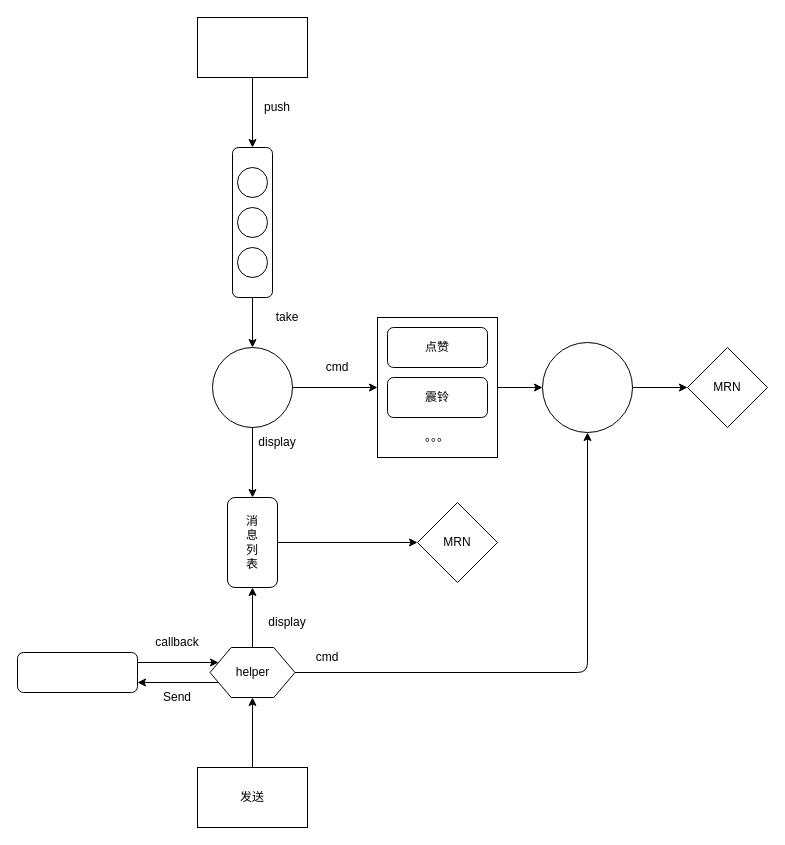
The diagram is 785 pixels wide and 845 high, and some of its shapes have lost their labels. The centre of each missing label's shape, as x and y in pixels:
MAPI: point (77, 672)
推送: point (252, 47)
消息处理器: point (252, 387)
透传分发接口: point (587, 387)
